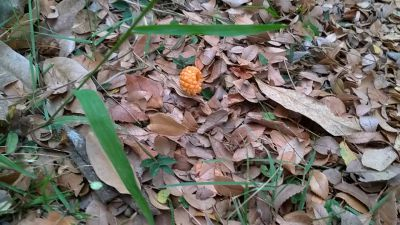eggs: (177, 64, 205, 95)
